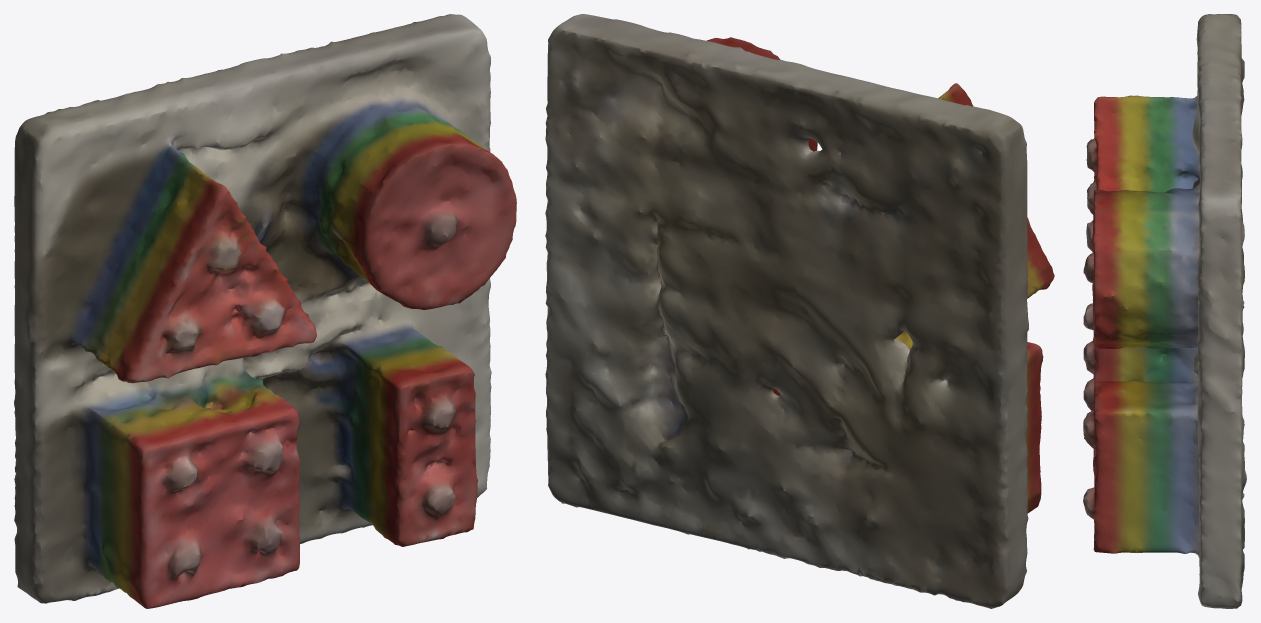
Rendered from sorting_board.glb.
3 renders of one model, left to right at view 1: azimuth 30°, elevation 25°; view 2: azimuth 150°, elevation 25°; view 3: azimuth 270°, elevation 25°, orthographic. The views are drawn at different scales.
Bounding box in the file's own units: 0.9964 × 0.9835 × 0.3505.
